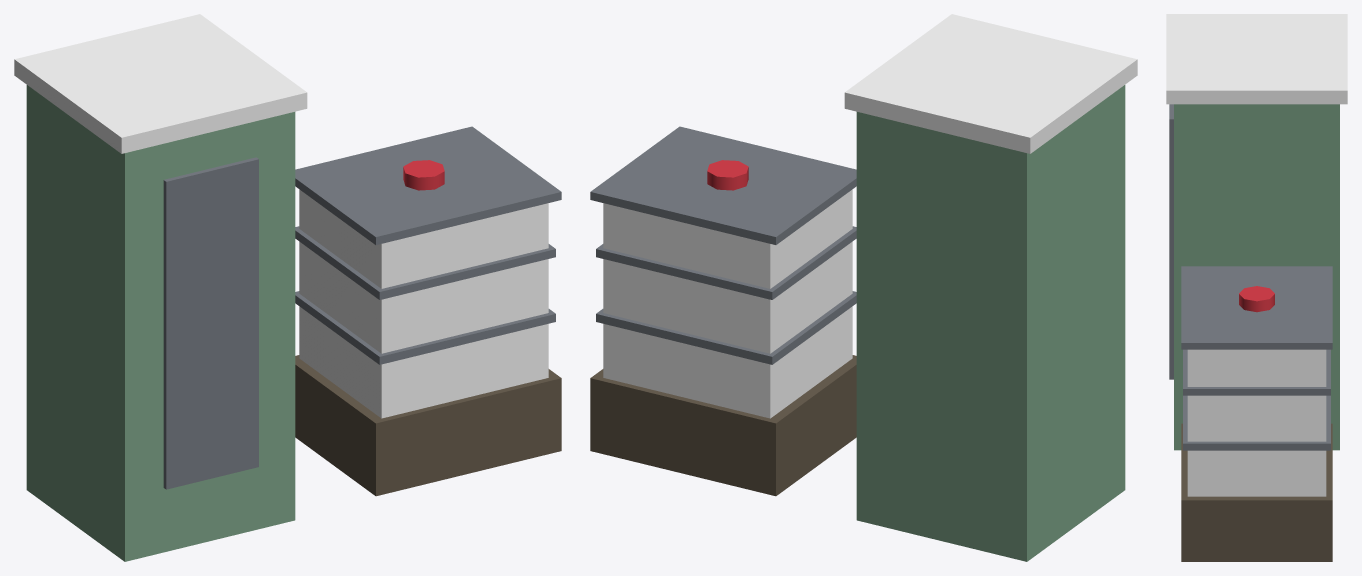
File: site_clutter6.fbx
3 views of the same model, side by side, from view 1: azimuth 30°, elevation 25°; view 2: azimuth 150°, elevation 25°; view 3: azimuth 270°, elevation 25° (orthographic). The views are drawn at different scales.
Visible parts, largest first — view 1: a1022/0/site_clutter6; view 2: a1022/0/site_clutter6; view 3: a1022/0/site_clutter6.
Part boxes in pixels (left/top/right/bottom): a1022/0/site_clutter6: left=14, top=14, right=561, bottom=561; a1022/0/site_clutter6: left=590, top=14, right=1137, bottom=561; a1022/0/site_clutter6: left=1166, top=14, right=1347, bottom=561.
Bounding box in the file's own units: 2.9 × 2.65 × 1.2.
